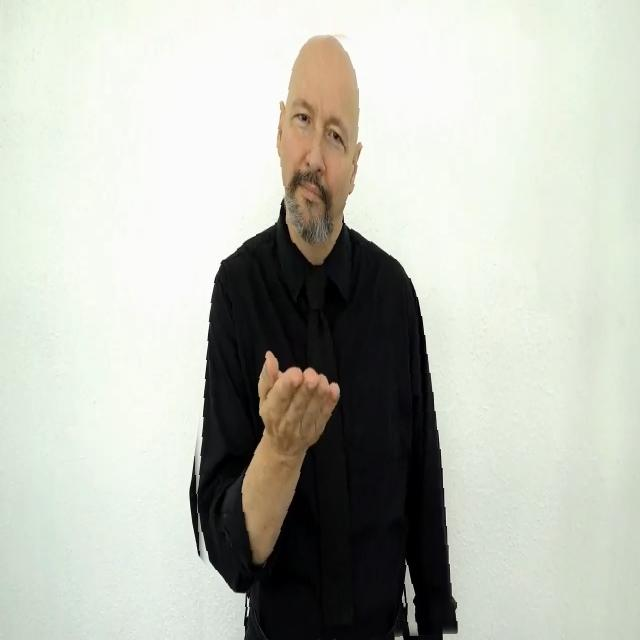ThankYou: (181, 32, 450, 640)
